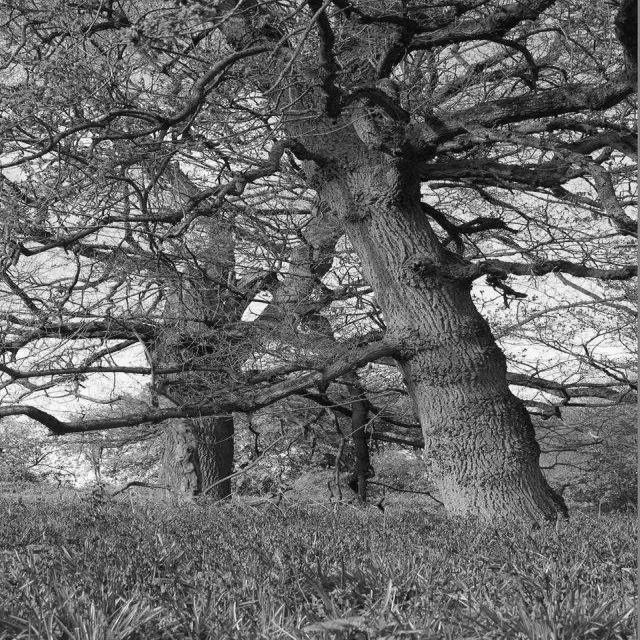Tree: (0, 0, 637, 516)
